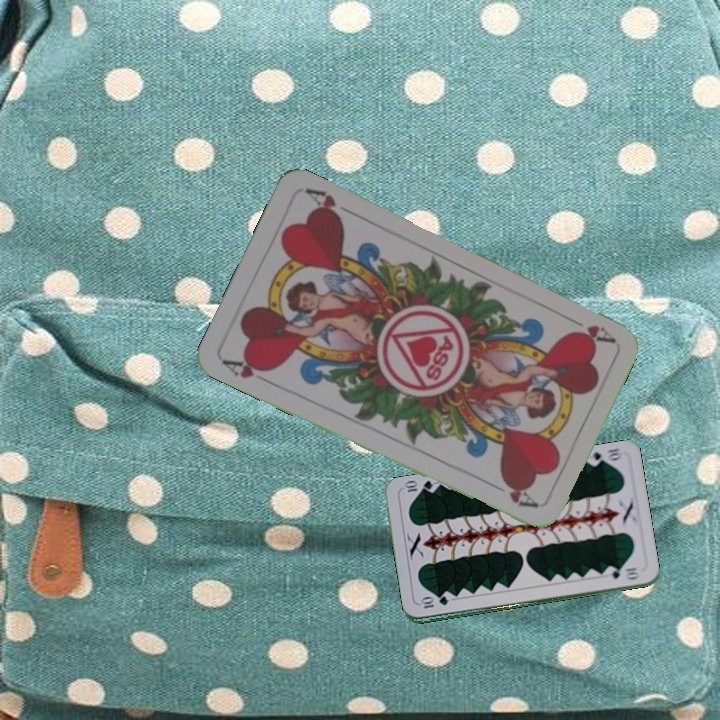G10: (584, 444, 623, 468), (417, 595, 451, 611)
HA: (218, 353, 275, 387), (561, 312, 617, 346)
